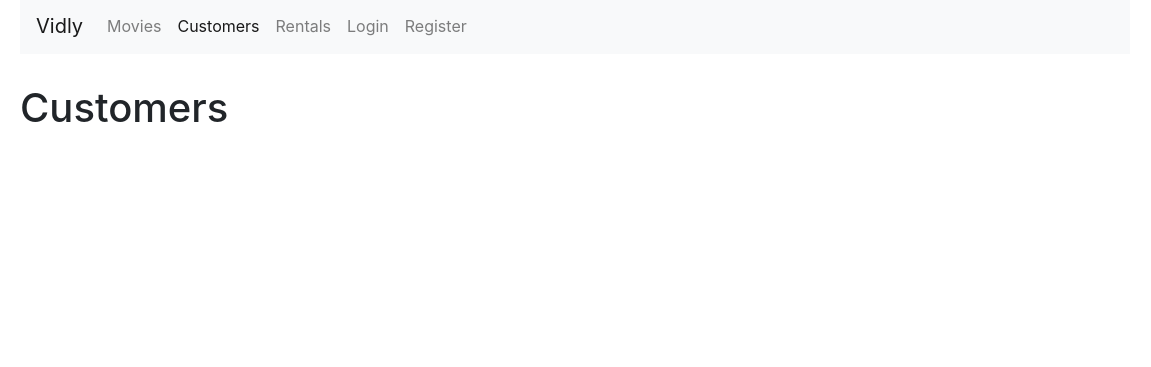
Test: Vidly › clicking on the Login page displays the login page
Click the link "Login": point(368, 26) x1=347 y1=16 x2=389 y2=36
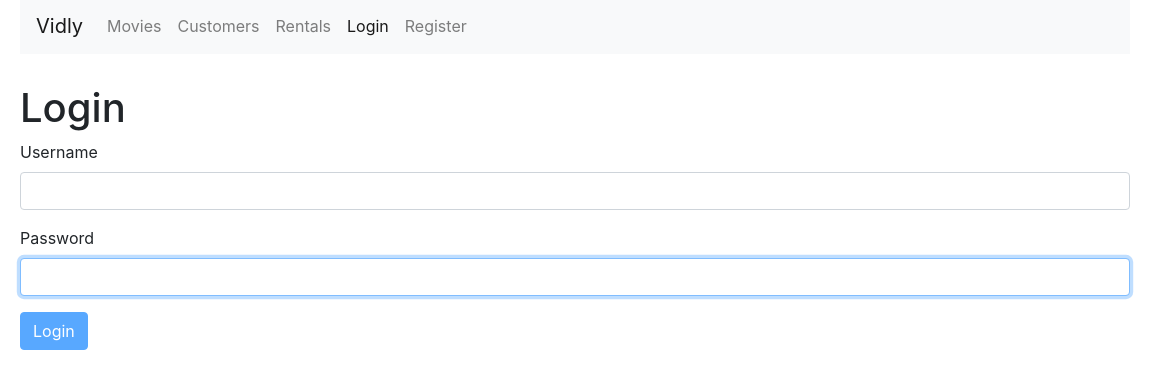
Expected: the heading "Login" is shown, x1=20 y1=83 x2=126 y2=132
Expected: the field labelled "Username" is shown, x1=20 y1=172 x2=1130 y2=210
Expected: the password field labelled "Password" is shown, x1=20 y1=258 x2=1130 y2=296
